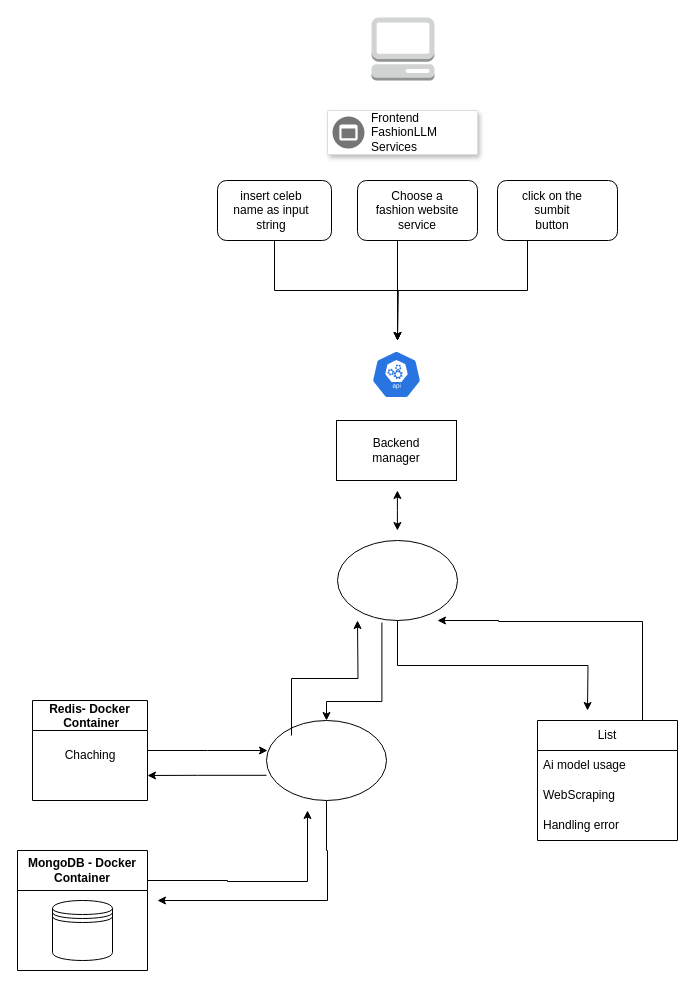
Some shapes in this 695 by 988 pixel diagram are drawn without their labels. The shapes that lost their labels are listed below. From the top down, each one's centre as x and y in pixels, then its label:
the point at 397,580: Business Layer
the point at 326,760: Data Access Layer
the point at 82,930: MongoDB database
